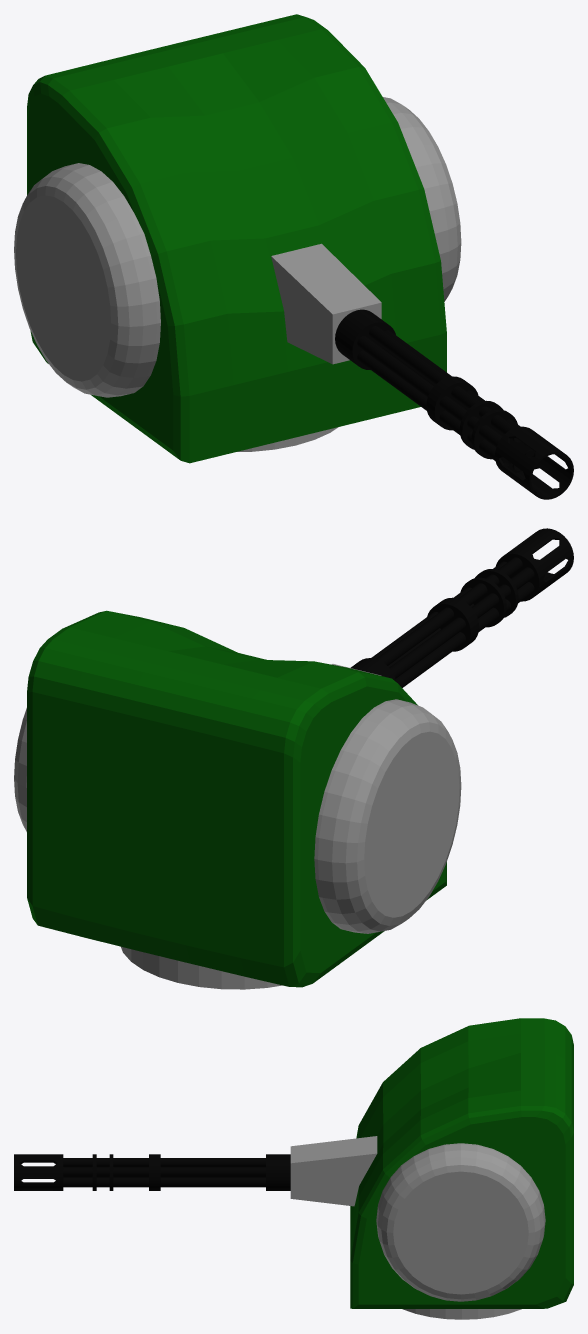
Rendered from MinigunV1.0.fbx.
The picture shows the model from 3 angles, top to bottom: view 1: azimuth 30°, elevation 25°; view 2: azimuth 150°, elevation 25°; view 3: azimuth 270°, elevation 25°; orthographic projection. The views are drawn at different scales.
Visible parts, largest first — view 1: Cube.001, Cylinder, Cylinder.002, Cylinder.001; view 2: Cube.001, Cylinder, Cylinder.002, Cylinder.001; view 3: Cube.001, Cylinder, Cylinder.002, Cylinder.001.
Boxes of the visible parts, x1,y1,x2,y2 form: Cube.001: (27,14,446,463); Cylinder: (14,97,461,397); Cylinder.002: (335,309,573,499); Cylinder.001: (237,427,338,451); Cube.001: (27,610,446,987); Cylinder: (14,664,461,933); Cylinder.002: (350,528,573,687); Cylinder.001: (121,946,282,989); Cube.001: (350,1018,573,1308); Cylinder: (290,1136,545,1301); Cylinder.002: (14,1154,290,1190); Cylinder.001: (402,1309,521,1319).
Size of the model in its own units: 256 by 219 by 501.
